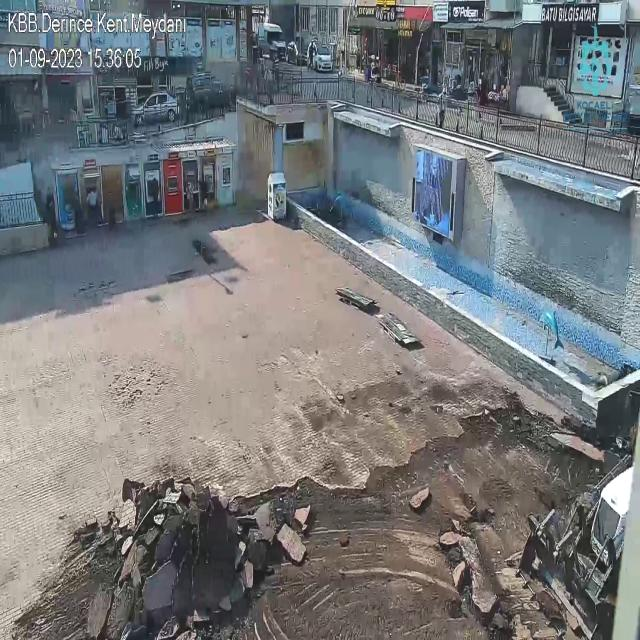Car: (130, 90, 182, 127), (307, 41, 333, 70), (286, 41, 309, 65)
Truck: (523, 460, 635, 640)
Van: (257, 22, 288, 60)
